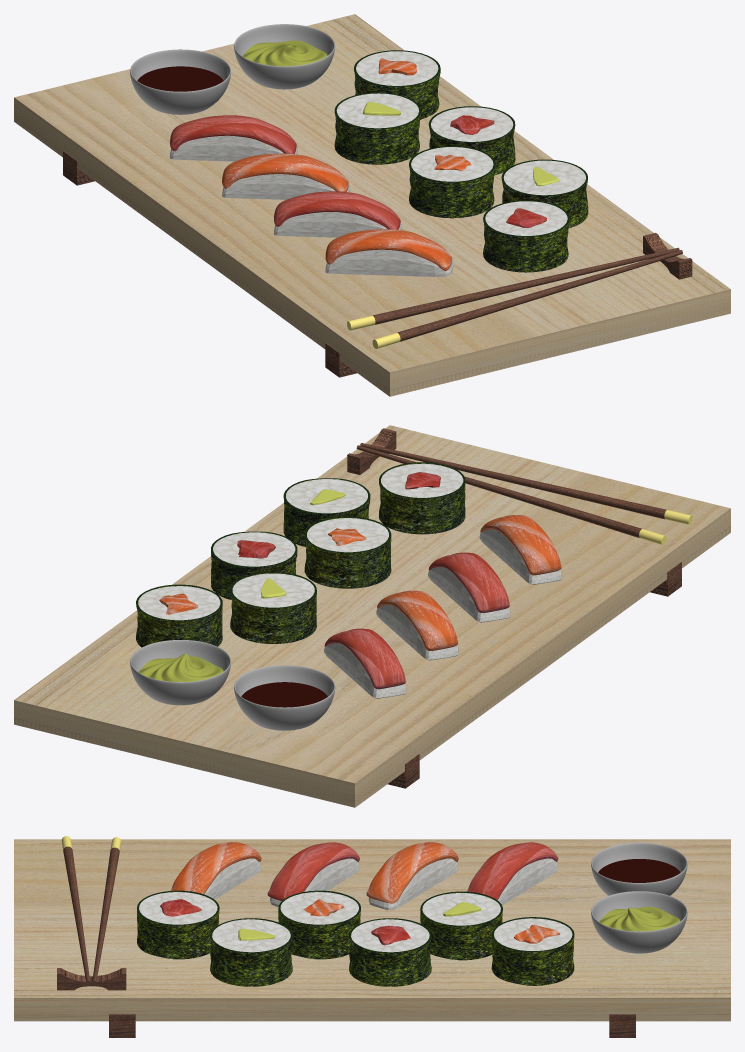
3 views of the same model, one above another, from view 1: azimuth 30°, elevation 25°; view 2: azimuth 150°, elevation 25°; view 3: azimuth 270°, elevation 25° (orthographic). The views are drawn at different scales.
Visible parts, largest first — view 1: plate, sushi_tuna_1, sushi_avocado_1, sushi_salmon_1, wasabi_bowl, saure_bowl, sake_1, sake_2, maguro_2, maguro_1, sushi_salmon_2, sushi_avocado_2 (+4 smaller); view 2: plate, sushi_tuna_1, sushi_salmon_1, sushi_avocado_1, wasabi_bowl, saure_bowl, sushi_salmon_2, sushi_tuna_2, sushi_avocado_2, maguro_2, maguro_1, sake_1 (+4 smaller); view 3: plate, sushi_salmon_2, sushi_avocado_2, sushi_tuna_2, sushi_tuna_1, wasabi_bowl, sushi_avocado_1, sushi_salmon_1, saure_bowl, sake_2, maguro_2, maguro_1 (+4 smaller).
Boxes of the visible parts, x1,y1,x2,y2 form: plate: (14,14,730,396); sushi_tuna_1: (483,200,569,272); sushi_avocado_1: (334,92,421,164); sushi_salmon_1: (409,146,495,218); wasabi_bowl: (234,24,335,89); saure_bowl: (130,49,230,114); sake_1: (325,229,453,276); sake_2: (222,153,350,199); maguro_2: (169,115,297,161); maguro_1: (274,191,401,237); sushi_salmon_2: (354,50,440,119); sushi_avocado_2: (501,159,588,228); plate: (14,425,730,807); sushi_tuna_1: (379,462,465,534); sushi_salmon_1: (304,516,391,588); sushi_avocado_1: (230,572,316,643); wasabi_bowl: (130,640,230,705); saure_bowl: (234,665,335,730); sushi_salmon_2: (136,584,222,647); sushi_tuna_2: (211,531,297,599); sushi_avocado_2: (283,478,370,547); maguro_2: (324,628,406,698); maguro_1: (428,552,510,622); sake_1: (479,515,561,584); plate: (14,839,730,1037); sushi_salmon_2: (491,917,574,985); sushi_avocado_2: (210,918,292,986); sushi_tuna_2: (349,918,431,986); sushi_tuna_1: (137,890,219,959); wasabi_bowl: (591,891,687,953); sushi_avocado_1: (420,891,502,960); sushi_salmon_1: (278,890,360,959); saure_bowl: (591,842,687,895); sake_2: (366,842,458,910); maguro_2: (467,842,558,905); maguro_1: (267,842,359,906).
Size of the model in its own units: 9.05 by 2.04 by 17.2.
Materials: 15 (9 with a texture image).
